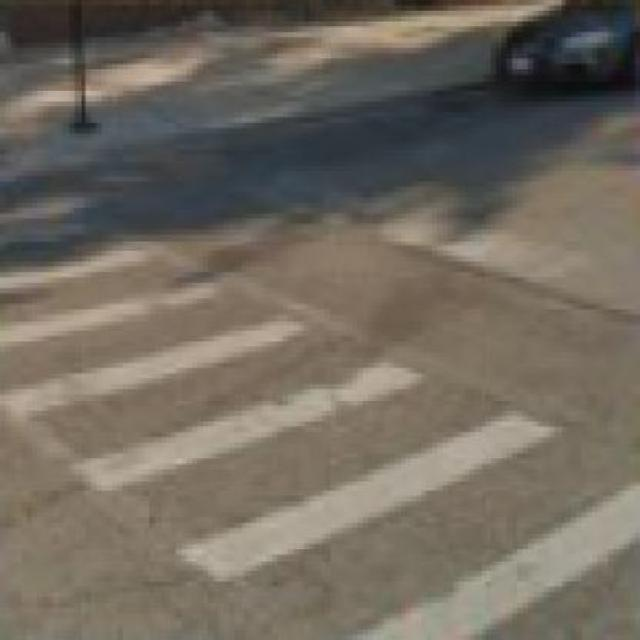crosswalk: (0, 211, 638, 640)
